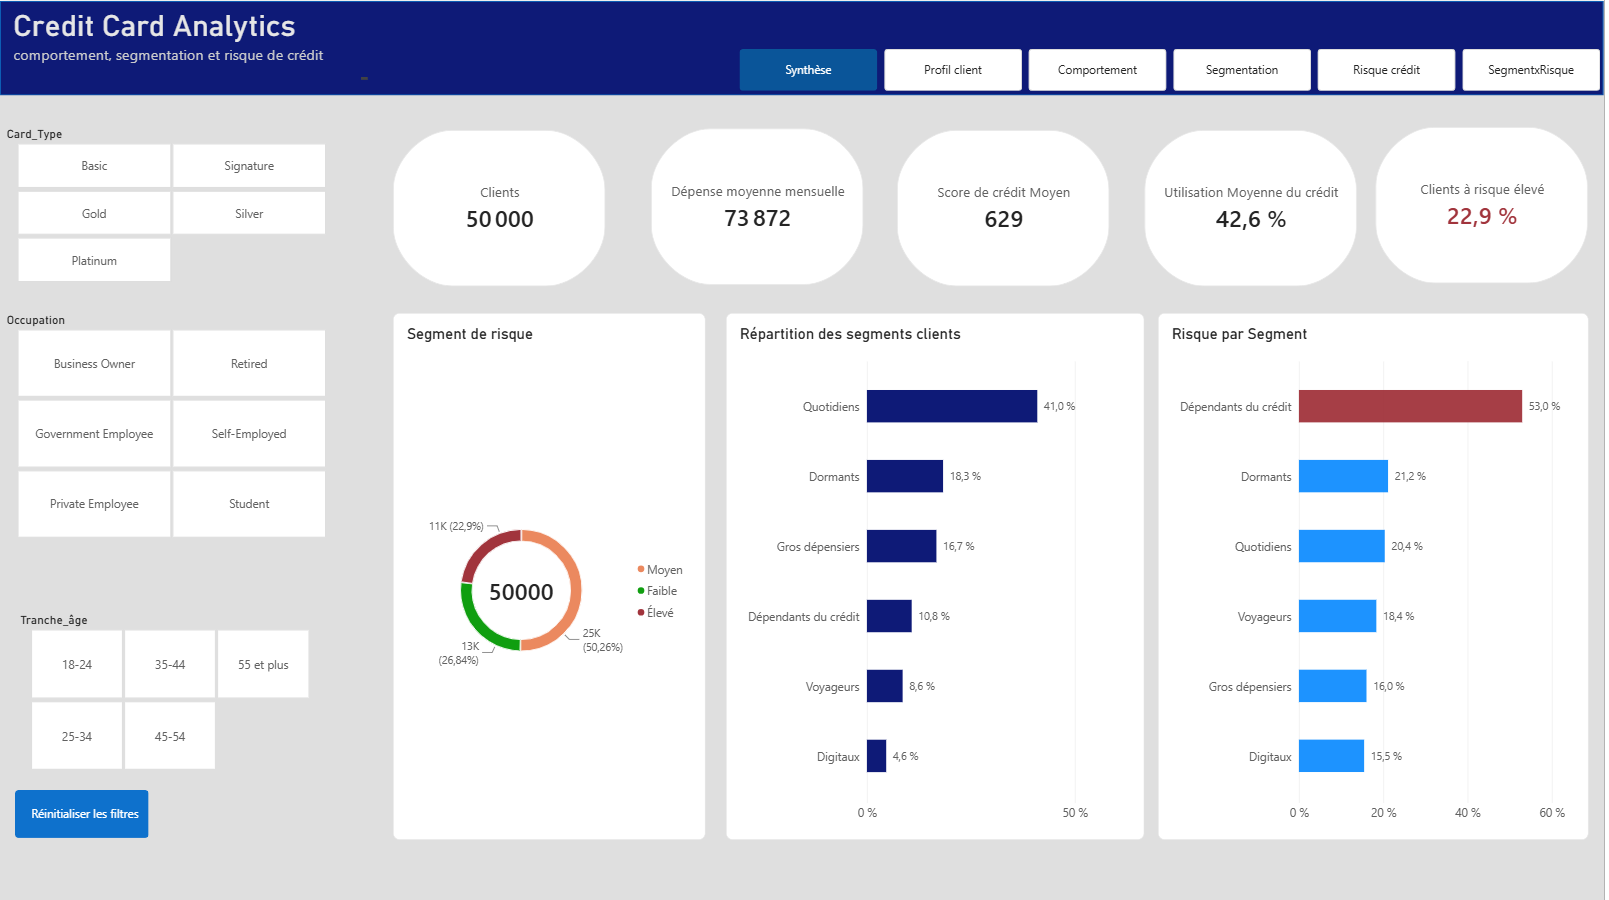

The dashboard page shown, as its layout file describes it:
{"tool":"powerbi","page":{"name":"Synthèse","canvas":[1920,1080],"ordinal":0},"visuals":[{"type":"shape","title":"Credit Card Analytics ","box":[0,0,1919.3,112.9],"z":0},{"type":"textbox","title":"Credit Card Analytics ","box":[17,8.5,423.9,85.2],"z":1000},{"type":"slicer","fields":{"Values":["Data.Card_Type"]},"box":[0,151.2,409,187.5],"z":2000},{"type":"slicer","fields":{"Values":["Data.Occupation"]},"box":[0,372.8,409,270.5],"z":3000},{"type":"slicer","fields":{"Values":["Data.Tranche_âge"]},"box":[17,732.8,372.8,189.6],"z":4000},{"type":"cardVisual","title":"Dépense moyenne mensuelle","fields":{"Data":["Mesures.Dépense Moy Affichage"]},"box":[778.8,153,255,187.8],"z":5000},{"type":"donutChart","title":"Segment de risque","fields":{"Category":["Data.Segment_Risque"],"Y":["Mesures.Nombre de clients"]},"box":[470.5,373.2,373.9,630.3],"z":6000},{"type":"clusteredBarChart","title":"Répartition des segments clients","fields":{"Category":["Data.Segment_Client"],"Y":["Mesures.% Clients Segment"]},"box":[869.2,373.2,500.7,630.5],"z":7000},{"type":"clusteredBarChart","title":" Risque par Segment","fields":{"Category":["Data.Segment_Client"],"Y":["Mesures.% Risque par Segment"]},"box":[1386.1,373.2,515.1,630.3],"z":8000},{"type":"cardVisual","title":"Dépense moyenne mensuelle","fields":{"Data":["Mesures.Score de crédit  Moyen"]},"box":[1073.2,155.3,255,187.8],"z":9000},{"type":"cardVisual","title":"Dépense moyenne mensuelle","fields":{"Data":["Mesures.Utilisation Moyenne du crédit"]},"box":[1369.9,155.3,255,187.8],"z":10000},{"type":"cardVisual","title":"Dépense moyenne mensuelle","fields":{"Data":["Mesures.Clients à risque élevé"]},"box":[1645.7,150.7,255,187.8],"z":11000},{"type":"cardVisual","title":"Dépense moyenne mensuelle","fields":{"Data":["Mesures.Clients"]},"box":[470.5,155.3,255,187.8],"z":12000},{"type":"pageNavigator","box":[885,57.5,1035,50],"z":12001},{"type":"actionButton","box":[17.5,945,160,57.5],"z":12002}]}

Visuals, with their boxes in screenshot pixels (x1, y1, x2, y2), scaled from the page's 1920x1080 canvas onto the 1609x900 screenshot:
"Credit Card Analytics " shape: BBox(0, 0, 1608, 94)
"Credit Card Analytics " textbox: BBox(14, 7, 369, 78)
slicer - Data.Card_Type: BBox(0, 126, 343, 282)
slicer - Data.Occupation: BBox(0, 311, 343, 536)
slicer - Data.Tranche_âge: BBox(14, 611, 327, 769)
"Dépense moyenne mensuelle" cardVisual: BBox(653, 128, 866, 284)
"Segment de risque" donutChart: BBox(394, 311, 708, 836)
"Répartition des segments clients" clusteredBarChart: BBox(728, 311, 1148, 836)
" Risque par Segment" clusteredBarChart: BBox(1162, 311, 1593, 836)
"Dépense moyenne mensuelle" cardVisual: BBox(899, 129, 1113, 286)
"Dépense moyenne mensuelle" cardVisual: BBox(1148, 129, 1362, 286)
"Dépense moyenne mensuelle" cardVisual: BBox(1379, 126, 1593, 282)
"Dépense moyenne mensuelle" cardVisual: BBox(394, 129, 608, 286)
pageNavigator: BBox(742, 48, 1608, 90)
actionButton: BBox(15, 788, 149, 835)
